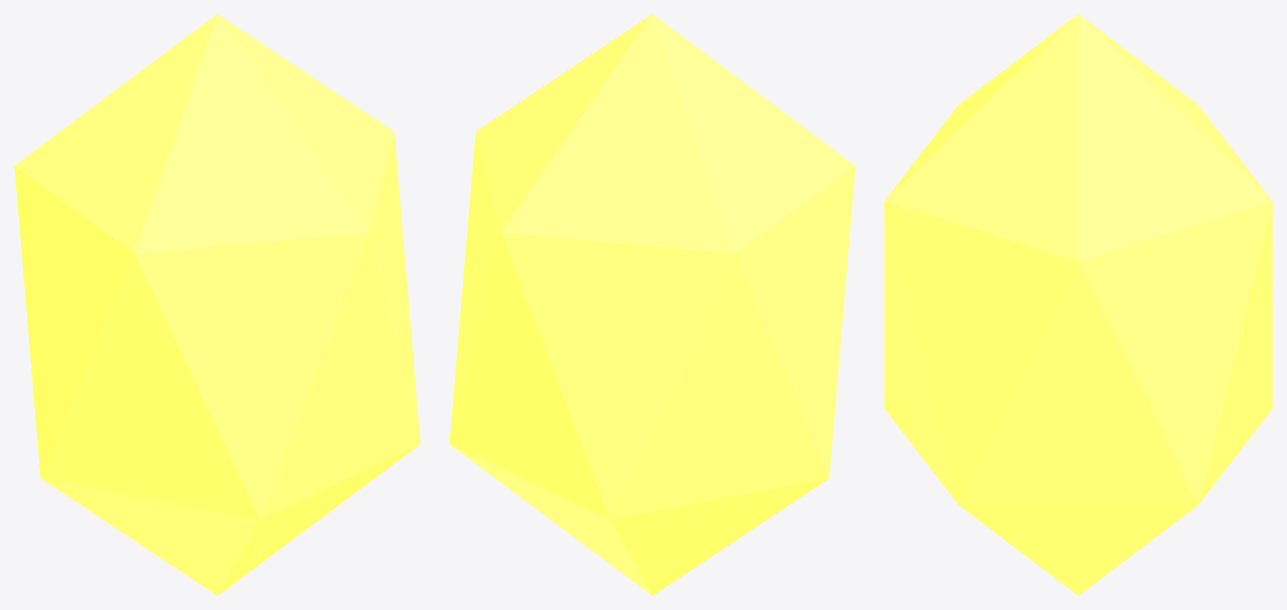
Rendered from shard.glb.
3 renders of one model, left to right at view 1: azimuth 30°, elevation 25°; view 2: azimuth 150°, elevation 25°; view 3: azimuth 270°, elevation 25°, orthographic.
Parts seen in each view (by area): view 1: Shard; view 2: Shard; view 3: Shard.
Boxes of the visible parts, x1=… form: Shard: x1=14, y1=14, x2=420, y2=595; Shard: x1=449, y1=14, x2=855, y2=595; Shard: x1=884, y1=14, x2=1272, y2=595.
Size of the model in its own units: 0.2862 by 0.45 by 0.2722.
